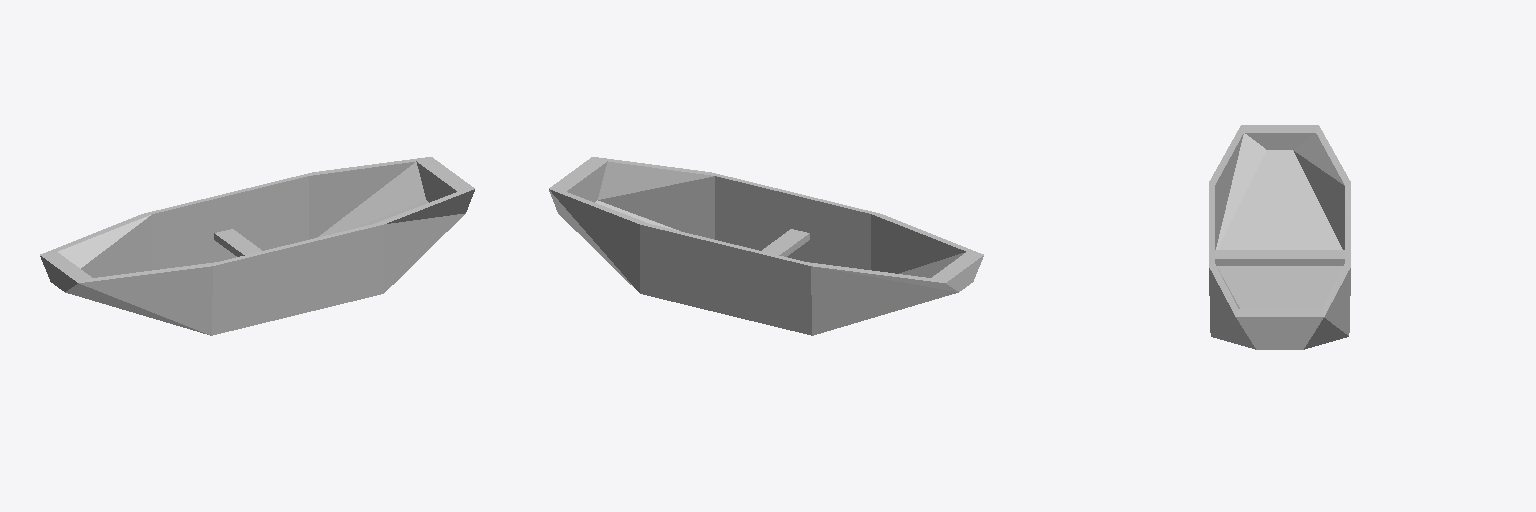
File: boat.obj
The picture shows the model from 3 angles: view 1: azimuth 30°, elevation 25°; view 2: azimuth 150°, elevation 25°; view 3: azimuth 270°, elevation 25°; orthographic projection.
Parts seen in each view (by area): view 1: boat, Plane; view 2: boat, Plane; view 3: boat, Plane.
Part boxes in pixels (bbox=[...]): boat: bbox=[40, 157, 474, 335]; Plane: bbox=[214, 229, 261, 256]; boat: bbox=[549, 157, 983, 335]; Plane: bbox=[762, 229, 809, 256]; boat: bbox=[1209, 125, 1350, 349]; Plane: bbox=[1215, 250, 1344, 265].
Size of the model in its own units: 12.17 by 2.06 by 3.79.